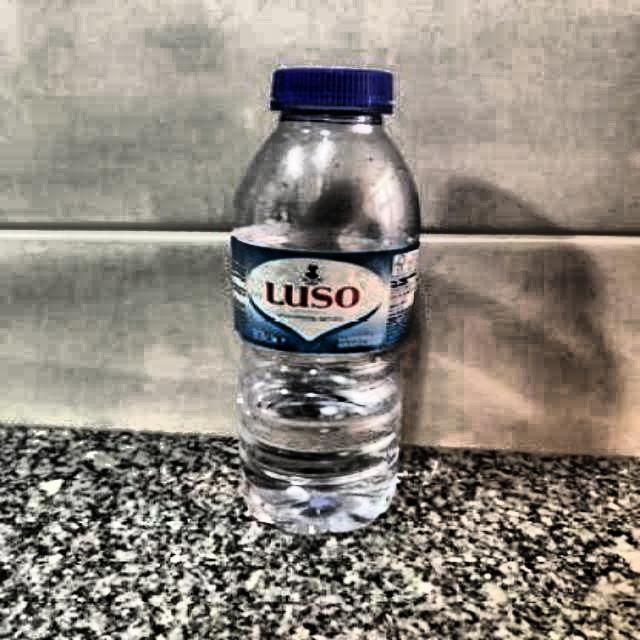Bottles: (220, 56, 425, 542)
